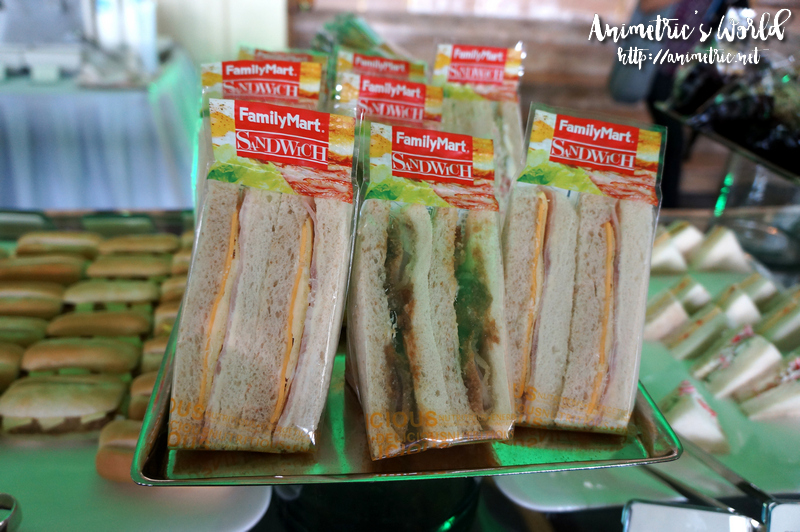sandwich: (158, 34, 363, 486), (357, 37, 523, 467), (502, 101, 661, 449)
